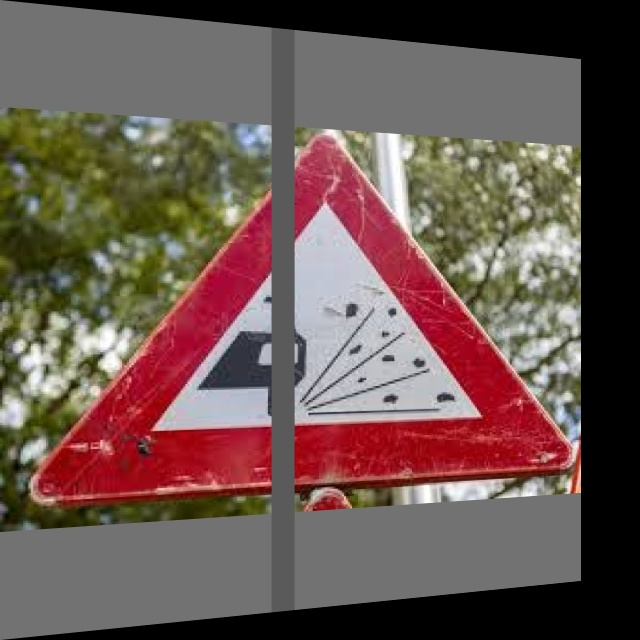Loose_Gravel: (62, 117, 559, 506)
